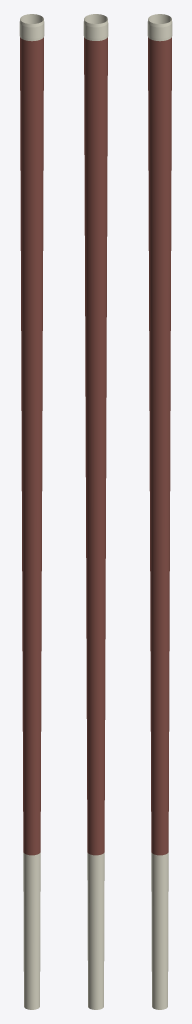
File: cup.fbx
3 views of the same model, side by side, from view 1: azimuth 90°, elevation 25°; view 2: azimuth 210°, elevation 25°; view 3: azimuth 270°, elevation 25° (orthographic).
Visible parts, largest first — view 1: cup; view 2: cup; view 3: cup.
Part boxes in pixels (bbox=[...]): cup: bbox=[19, 14, 44, 1009]; cup: bbox=[83, 14, 108, 1009]; cup: bbox=[147, 14, 172, 1009].
Size of the model in its own units: 1078 by 47542 by 1078.
